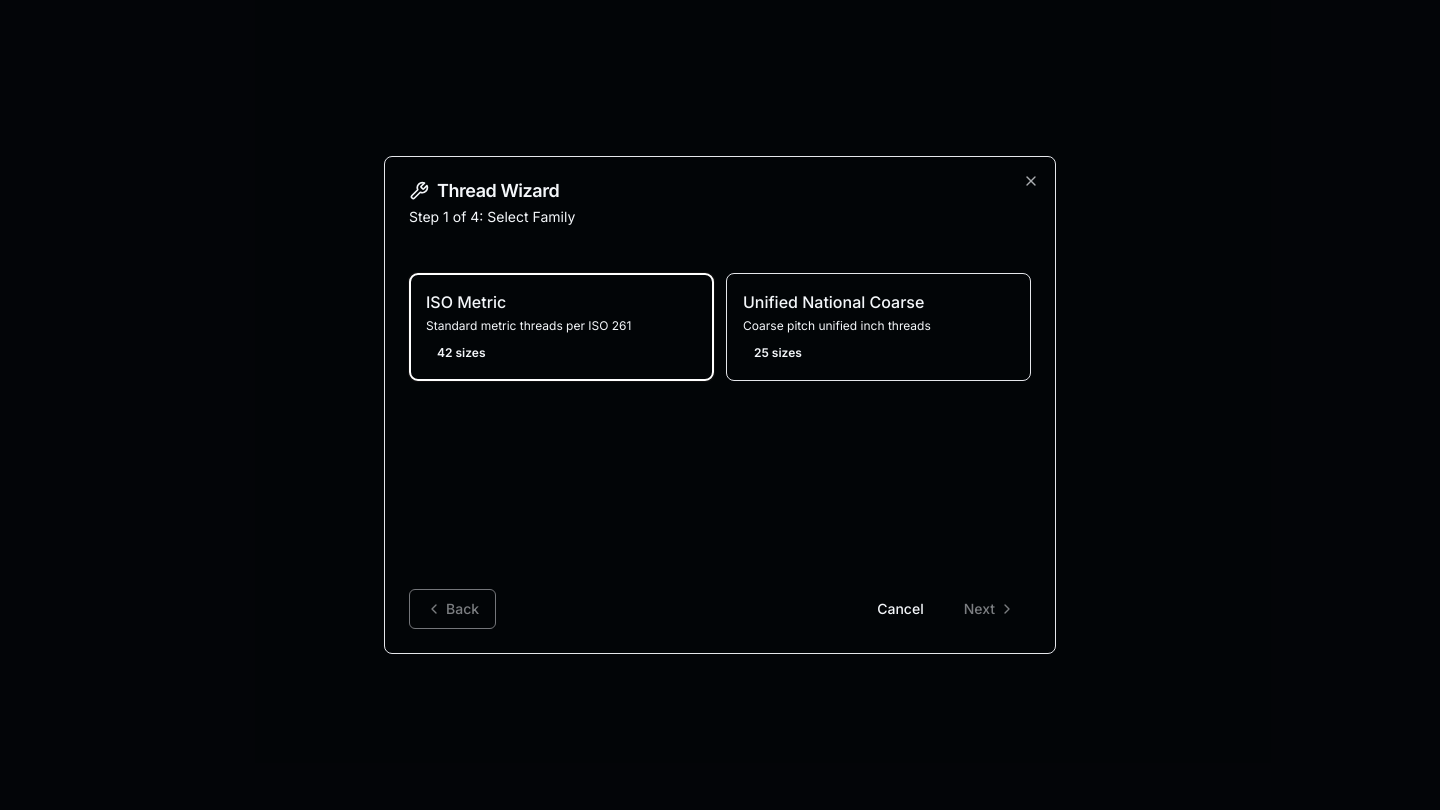
Test: ThreadWizard › navigates to size step after selecting family and clicking next
# Select a family
Click the button with test id "family-iso_metric": {"x": 562, "y": 327} top-left (409, 273), bottom-right (714, 381)
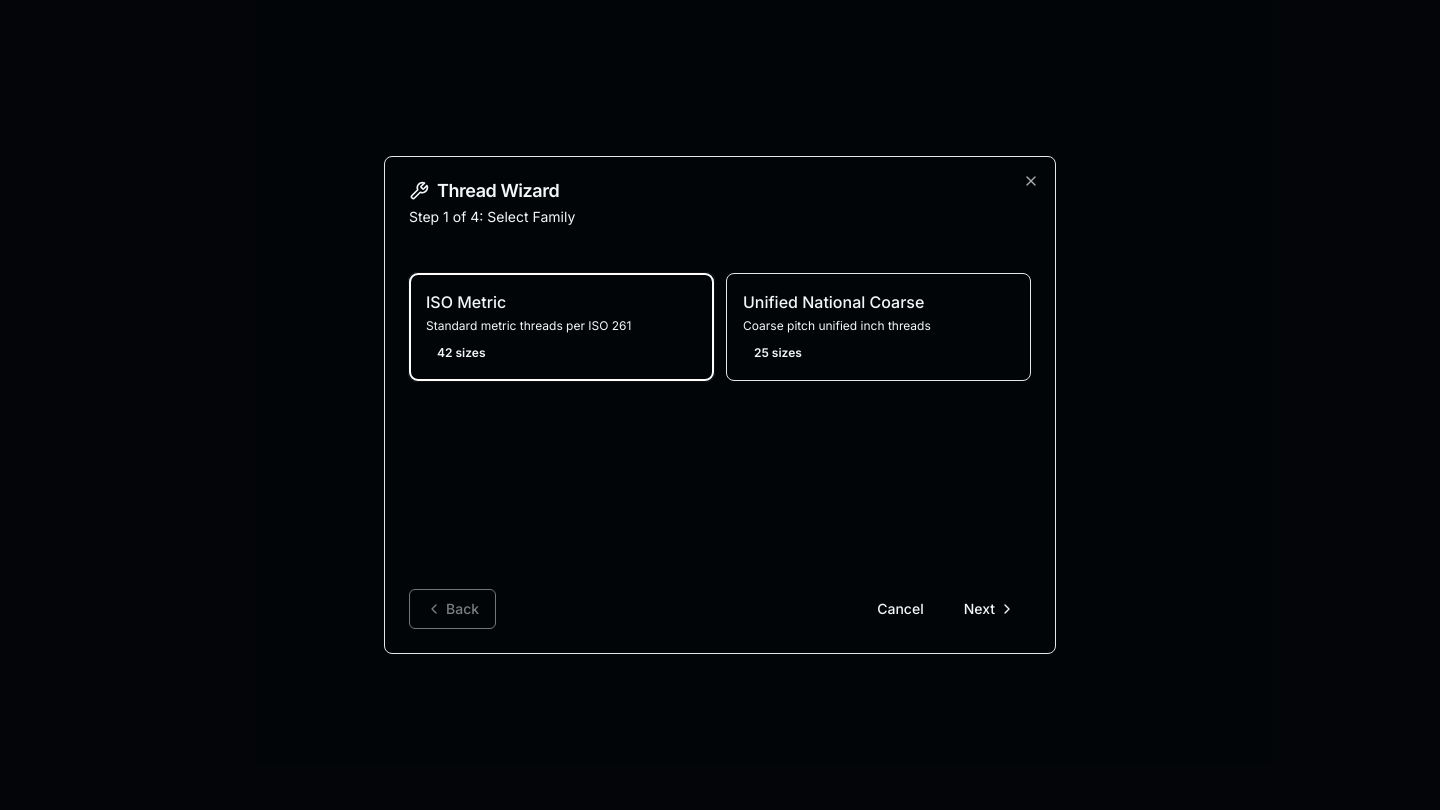
# Click next
Click the button with test id "wizard-next": {"x": 989, "y": 609} top-left (948, 589), bottom-right (1031, 629)
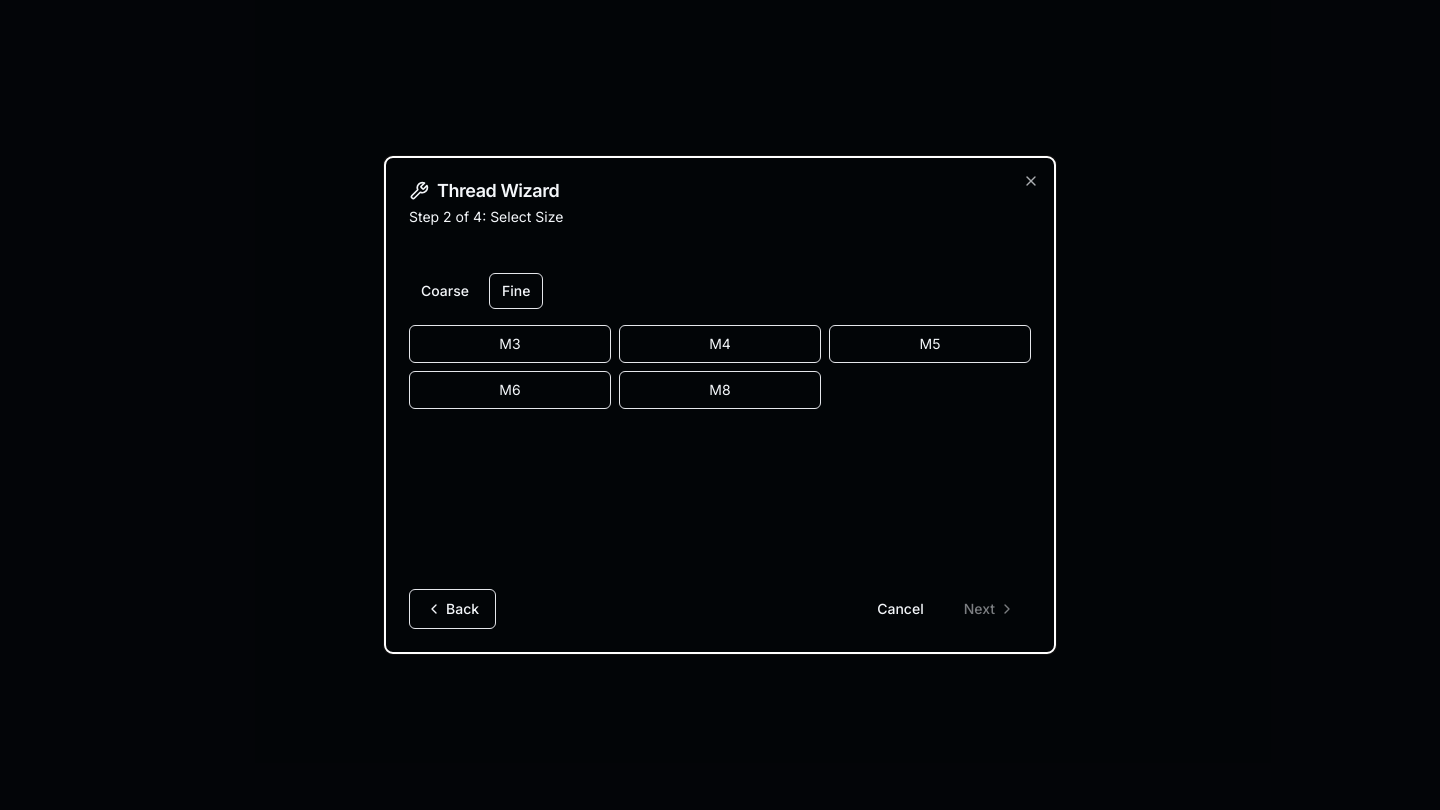
Expected: the element with test id "size-list" is shown, top-left (409, 325), bottom-right (1031, 409)
